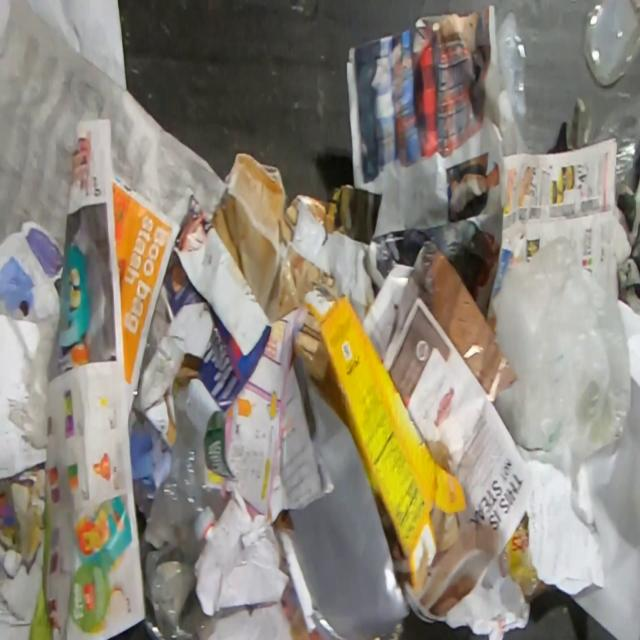cardboard: (319, 288, 469, 593), (424, 245, 486, 349)
soft_plastic: (273, 356, 412, 640), (494, 233, 632, 472), (129, 378, 227, 640), (497, 512, 558, 604), (458, 316, 518, 403), (588, 93, 640, 190), (582, 0, 640, 86), (496, 9, 527, 138)
